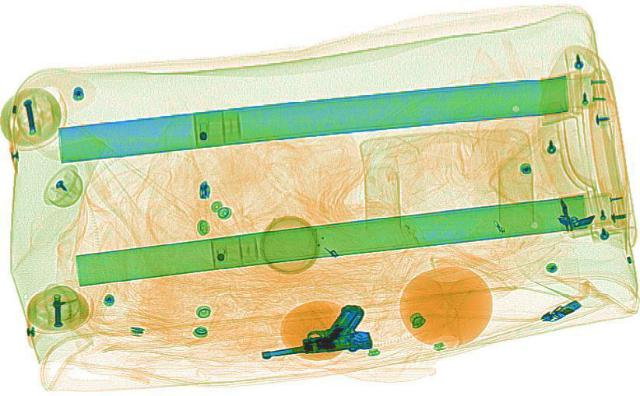Gun: (246, 302, 376, 358)
